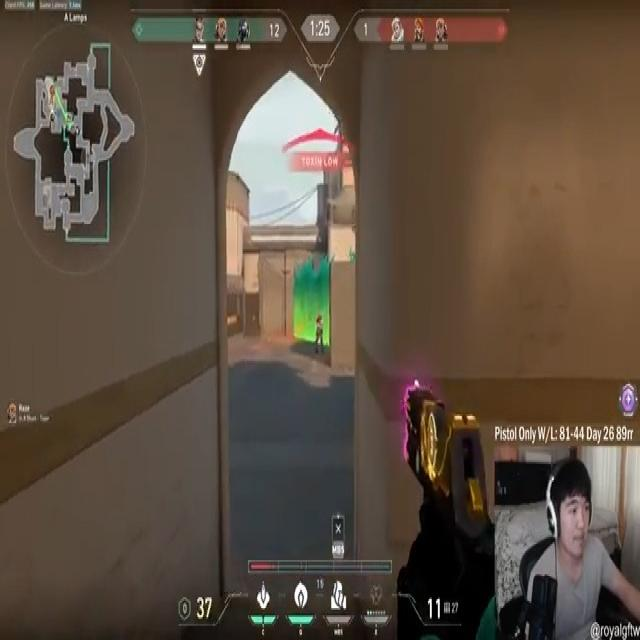enemy: (315, 310, 326, 361)
